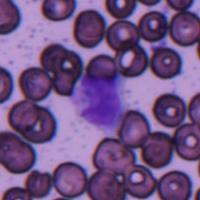M: (71, 74, 130, 130)
